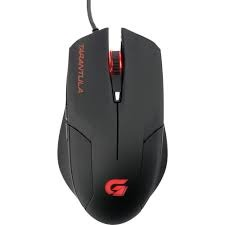mouse: (52, 27, 177, 225)
